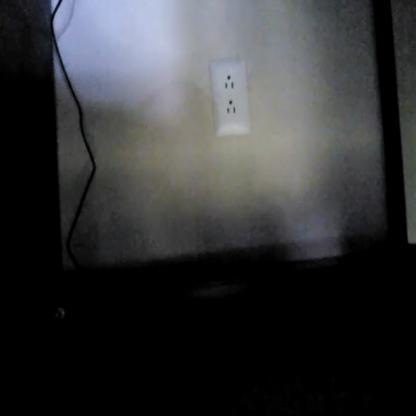OUTLET: (208, 61, 250, 136)
